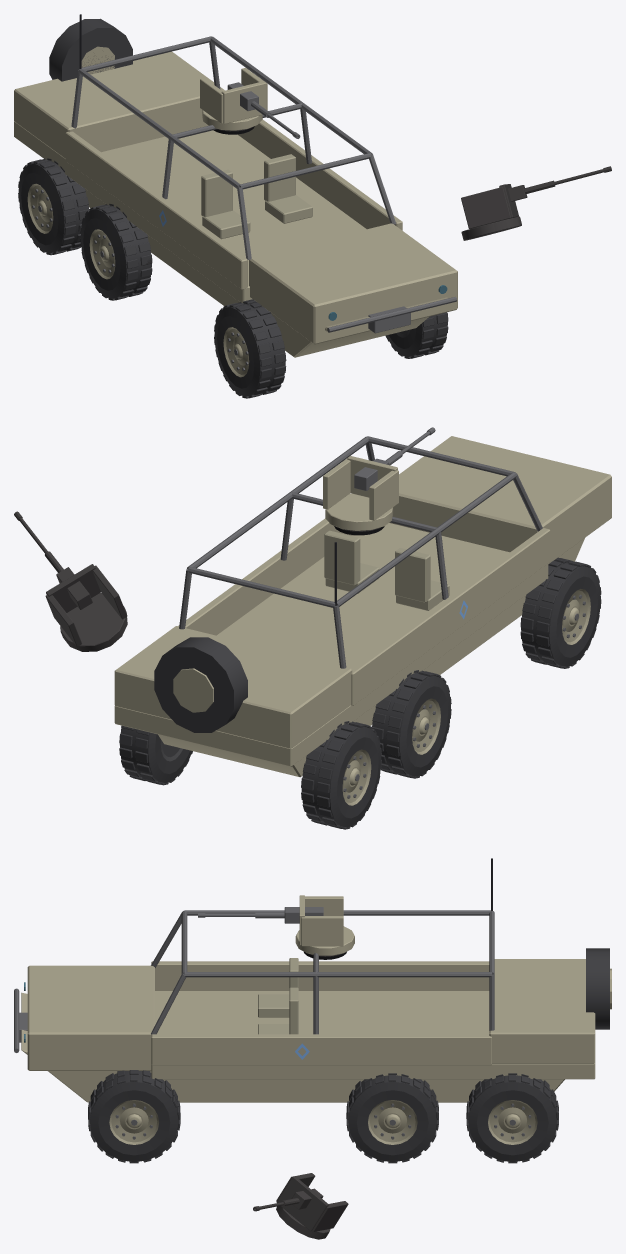
File: reconVehicle__jackal_3e.glb
The picture shows the model from 3 angles, top to bottom: view 1: azimuth 30°, elevation 25°; view 2: azimuth 150°, elevation 25°; view 3: azimuth 270°, elevation 25°; orthographic projection. The views are drawn at different scales.
Visible parts, largest first — view 1: Hull_Mesh, Wheel_L2_Mesh, Wheel_L1_Mesh, Wheel_L0_Mesh, Wreck, Turret_Mesh, Wheel_R2_Mesh, Gun_Mesh; view 2: Hull_Mesh, Wheel_L2_Mesh, Wheel_L0_Mesh, Wheel_L1_Mesh, Wreck, Turret_Mesh, Wheel_R0_Mesh, Gun_Mesh; view 3: Hull_Mesh, Wheel_R2_Mesh, Wheel_R0_Mesh, Wheel_R1_Mesh, Wreck, Turret_Mesh, Gun_Mesh.
Boxes of the visible parts, x1,y1,x2,y2 form: Hull_Mesh: [14, 14, 457, 357]; Wheel_L2_Mesh: [214, 299, 286, 398]; Wheel_L1_Mesh: [80, 203, 152, 300]; Wheel_L0_Mesh: [18, 158, 89, 255]; Wreck: [53, 126, 611, 397]; Turret_Mesh: [200, 67, 267, 130]; Wheel_R2_Mesh: [385, 312, 448, 358]; Gun_Mesh: [227, 82, 300, 138]; Hull_Mesh: [114, 436, 611, 777]; Wheel_L2_Mesh: [520, 557, 601, 668]; Wheel_L0_Mesh: [301, 721, 381, 829]; Wheel_L1_Mesh: [371, 670, 451, 778]; Wreck: [14, 511, 581, 782]; Turret_Mesh: [323, 456, 398, 530]; Wheel_R0_Mesh: [119, 725, 192, 785]; Gun_Mesh: [354, 427, 435, 490]; Hull_Mesh: [14, 858, 611, 1102]; Wheel_R2_Mesh: [88, 1070, 180, 1163]; Wheel_R0_Mesh: [466, 1073, 558, 1163]; Wheel_R1_Mesh: [346, 1073, 438, 1163]; Wreck: [98, 951, 477, 1239]; Turret_Mesh: [295, 895, 354, 955]; Gun_Mesh: [198, 907, 323, 923].
Size of what is drawn, in the model's own units: 5.31 by 2.75 by 6.48.
